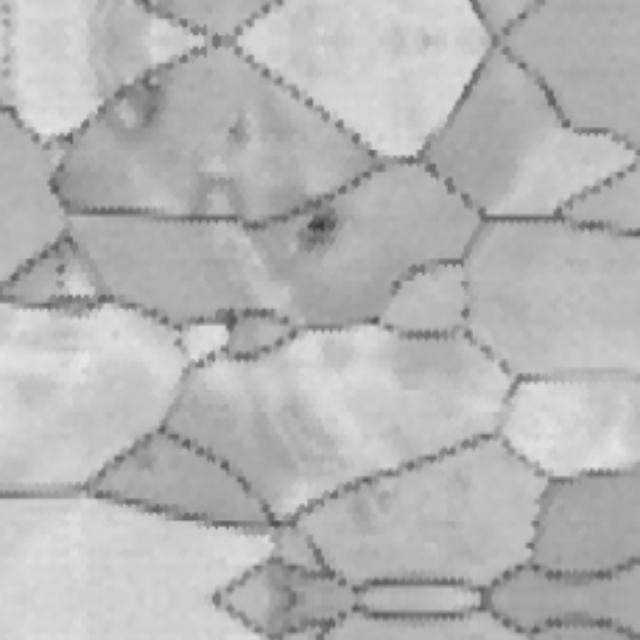good_void: (78, 40, 165, 144), (78, 0, 160, 40), (218, 115, 275, 157), (299, 202, 349, 245), (57, 261, 67, 274), (58, 278, 67, 289)
